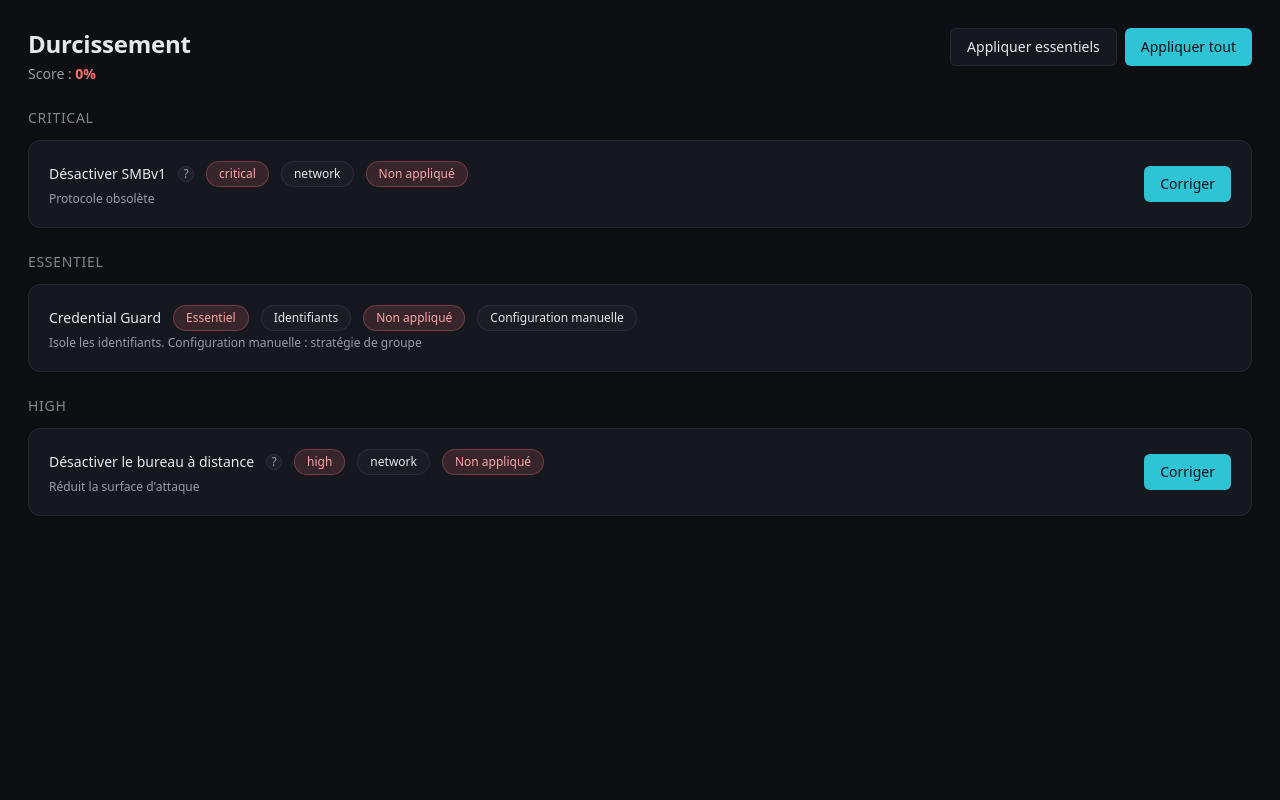
HardeningPage manual and single fixes › offers no Corriger button for a check that cannot be fixed automatically and leaves it out of Appliquer tout
Expected: the text "Credential Guard" is shown, x1=49 y1=308 x2=161 y2=328
Expected: the number of buttons "Corriger" is 2, x1=1144 y1=166 x2=1231 y2=202; x1=1144 y1=454 x2=1231 y2=490
Click the button "Appliquer tout" at (1188, 47), box x1=1125 y1=28 x2=1252 y2=66
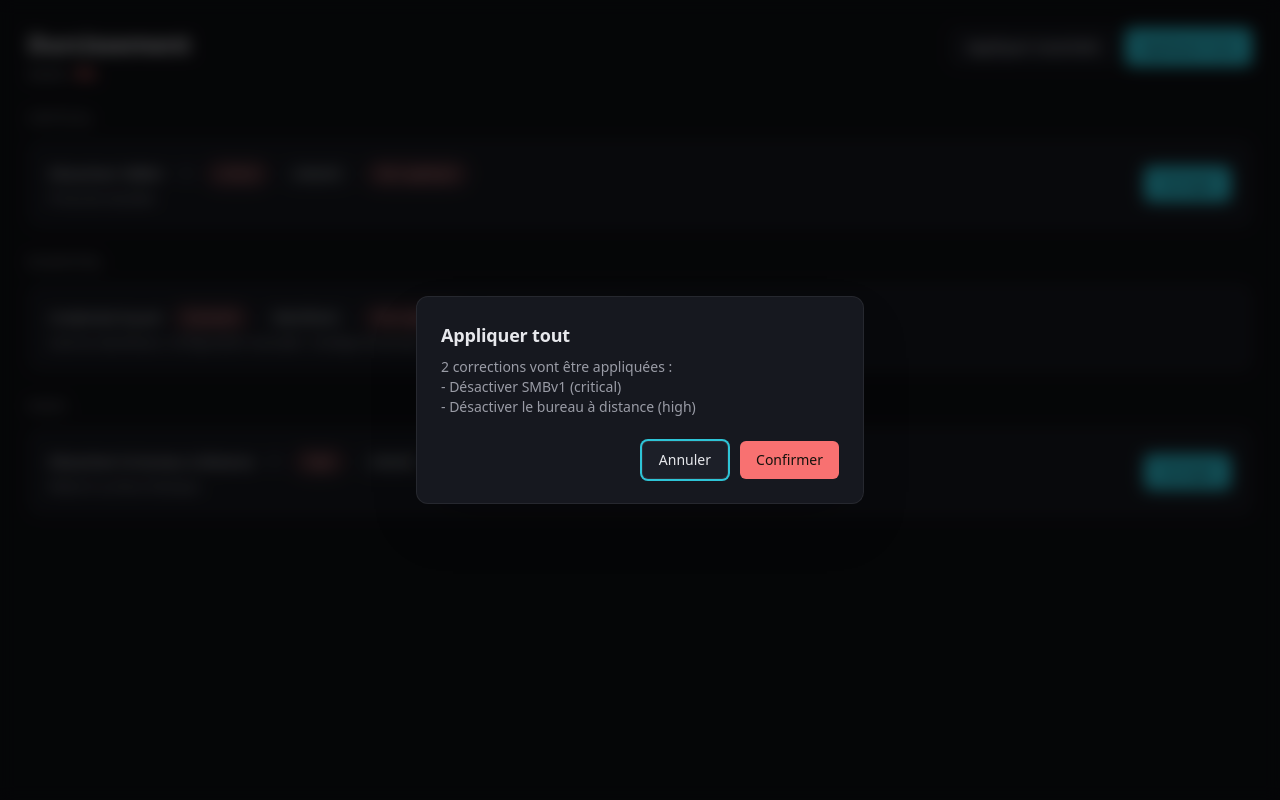
Expected: the dialog does not show "Credential Guard", x1=416 y1=296 x2=864 y2=504
Now the dialog shows "2 corrections", box x1=441 y1=357 x2=696 y2=416
